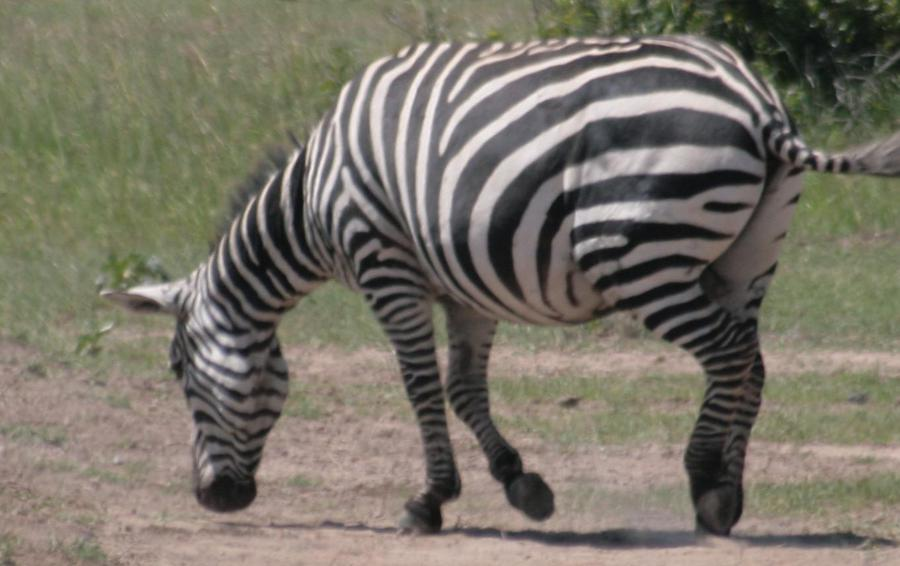zebra_plains: (291, 7, 757, 382)
